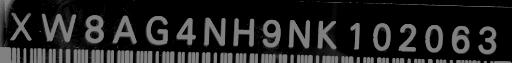letter: (39, 10, 77, 43), (110, 13, 138, 46), (230, 16, 258, 49), (285, 17, 313, 50), (6, 10, 34, 41), (144, 14, 170, 47), (202, 14, 228, 47), (174, 14, 198, 47), (315, 18, 339, 51), (448, 23, 472, 56), (421, 23, 445, 54), (84, 11, 106, 44), (370, 20, 392, 53), (396, 21, 418, 54), (260, 18, 282, 49), (476, 24, 498, 55), (348, 19, 362, 52)
